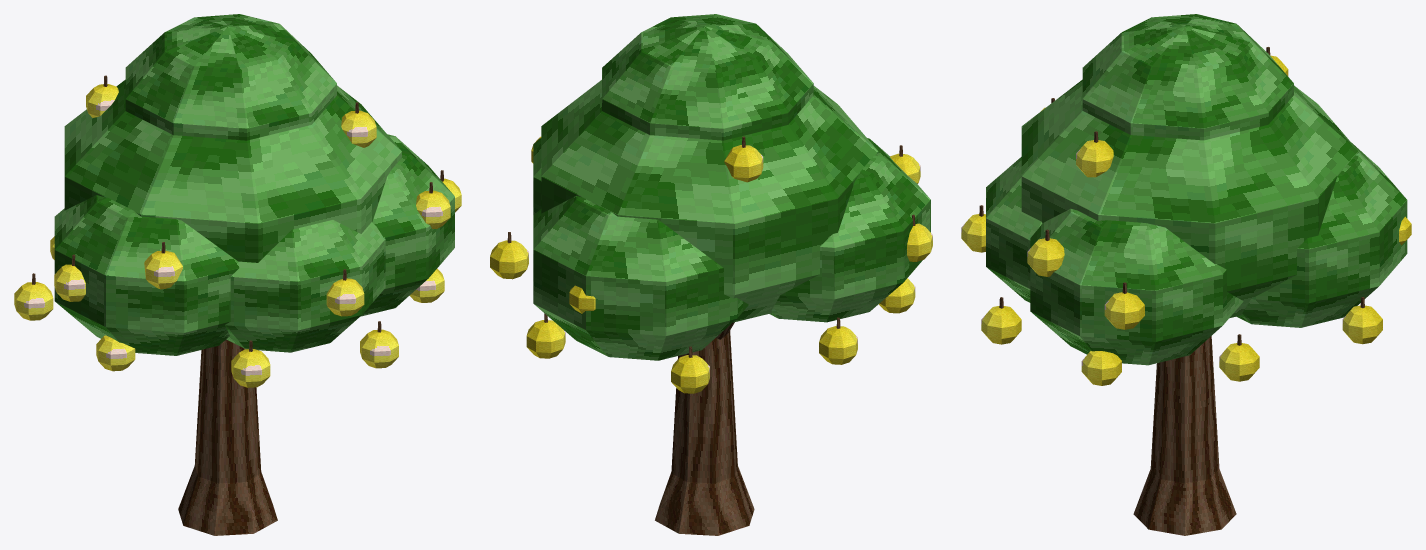
The model's file is arvore_frutifera_limoeiro.glb.
3 renders of one model, left to right at view 1: azimuth 30°, elevation 25°; view 2: azimuth 150°, elevation 25°; view 3: azimuth 270°, elevation 25°, orthographic.
Parts seen in each view (by area): view 1: Tree_Body, Fruits; view 2: Tree_Body, Fruits; view 3: Tree_Body, Fruits.
Boxes of the visible parts, left/top/right/bottom form: Tree_Body: left=32, top=14, right=454, bottom=535; Fruits: left=14, top=84, right=461, bottom=387; Tree_Body: left=507, top=14, right=930, bottom=535; Fruits: left=490, top=136, right=932, bottom=393; Tree_Body: left=979, top=14, right=1407, bottom=535; Fruits: left=961, top=55, right=1411, bottom=385.
Size of the model in its own units: 3.48 by 4.06 by 3.39.
Materials: 1 (1 with a texture image).
